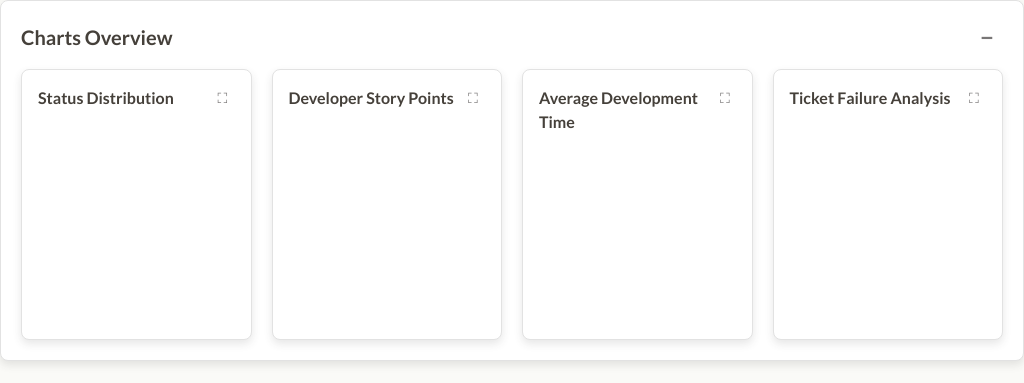
Test: ChartsOverview › should show plus symbol when collapsed
Click the button titled "Collapse/Expand" at point(987, 37), box x1=971 y1=21 x2=1003 y2=53
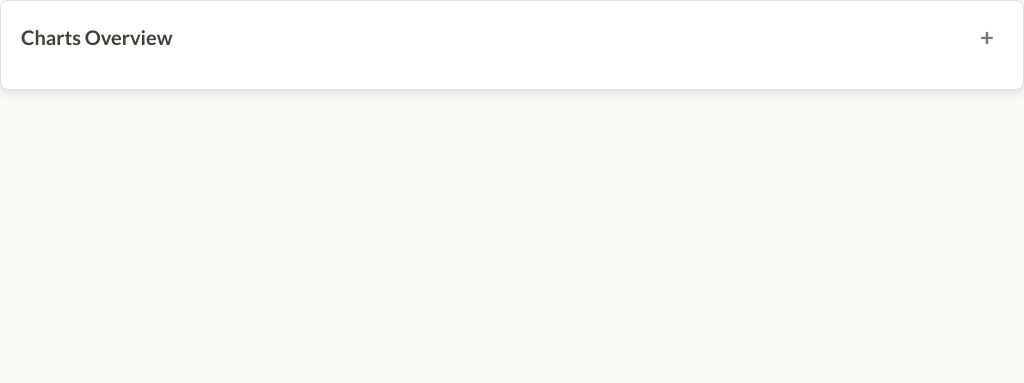
Now the button titled "Collapse/Expand" reads "+", box x1=971 y1=21 x2=1003 y2=53
